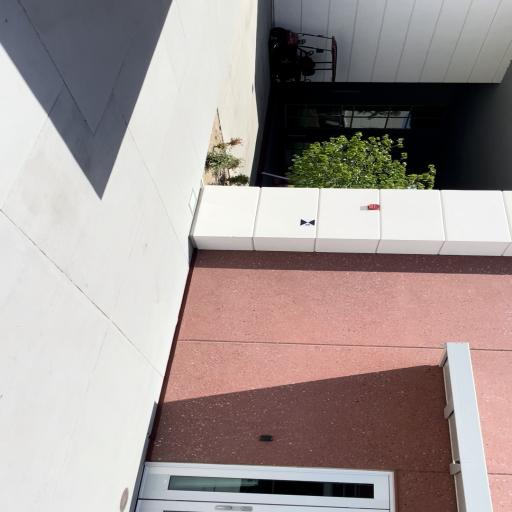target6: (300, 219, 315, 226)
